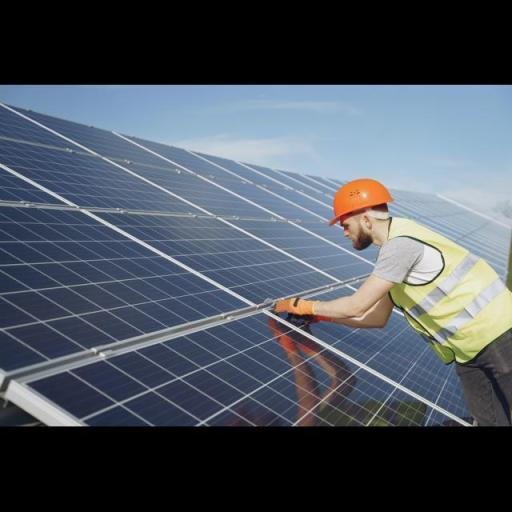Person: (256, 156, 510, 424), (344, 208, 508, 427)
gloves: (268, 286, 322, 324)
helmet: (327, 170, 399, 233)
vest: (370, 202, 512, 371)
